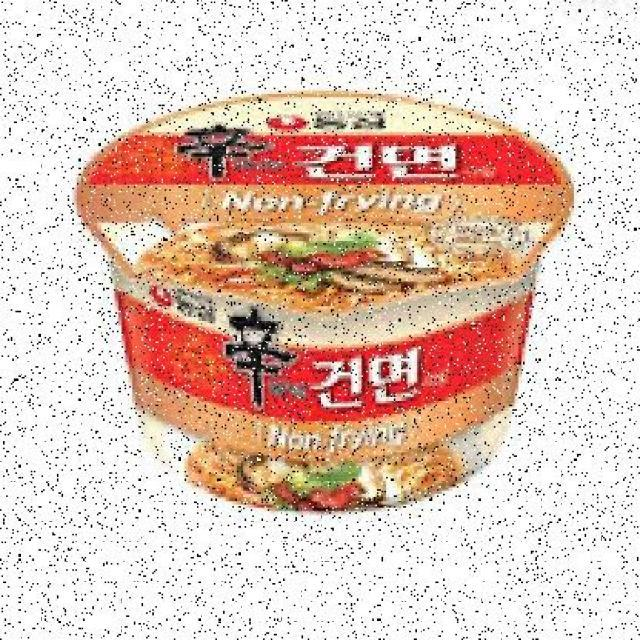Miscellaneous: (71, 94, 574, 538)
